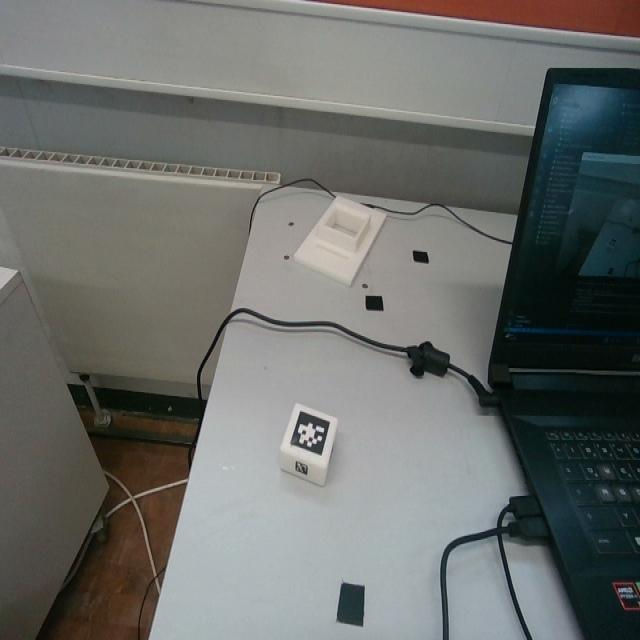Cube: (278, 402, 339, 486)
